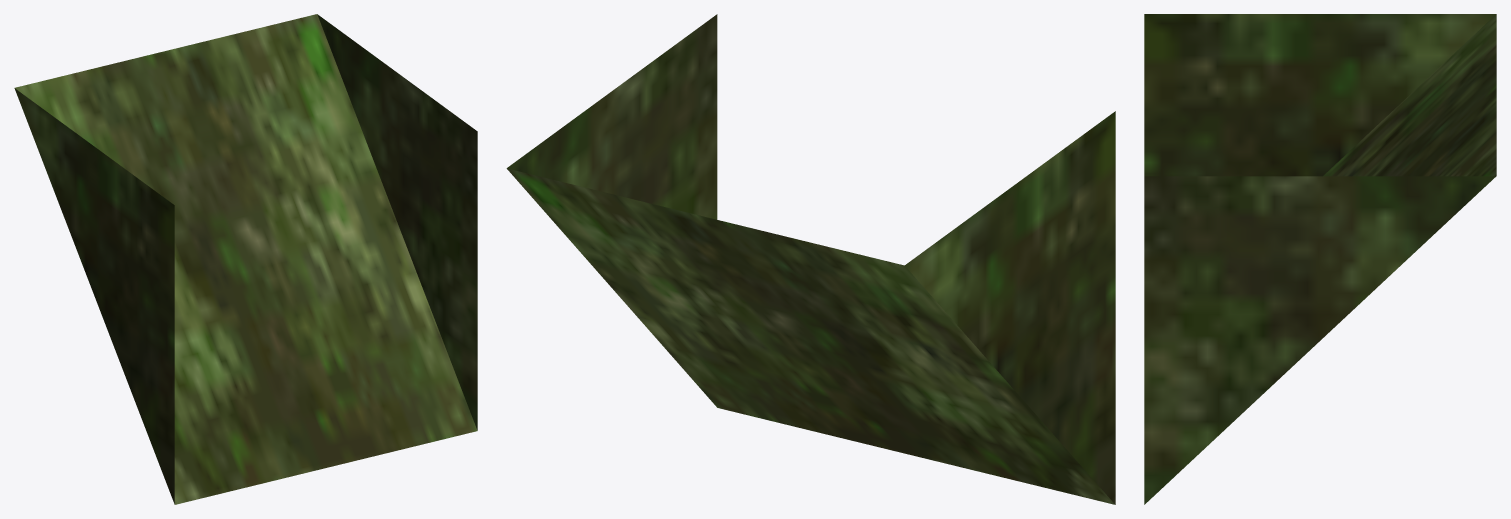
Rendered from OVERHILL_A_01_STONE_BLOCK_19.fbx.
The picture shows the model from 3 angles, left to right: view 1: azimuth 30°, elevation 25°; view 2: azimuth 150°, elevation 25°; view 3: azimuth 270°, elevation 25°; orthographic projection. The views are drawn at different scales.
Parts seen in each view (by area): view 1: OVERHILL_A_01_STONE_BLOCK_19; view 2: OVERHILL_A_01_STONE_BLOCK_19; view 3: OVERHILL_A_01_STONE_BLOCK_19.
Part boxes in pixels (<box>): OVERHILL_A_01_STONE_BLOCK_19: <box>14,14,477,504</box>; OVERHILL_A_01_STONE_BLOCK_19: <box>506,14,1115,504</box>; OVERHILL_A_01_STONE_BLOCK_19: <box>1144,14,1496,504</box>.
Size of the model in its own units: 8369 by 7913 by 7681.
Materials: 1 (1 with a texture image).
